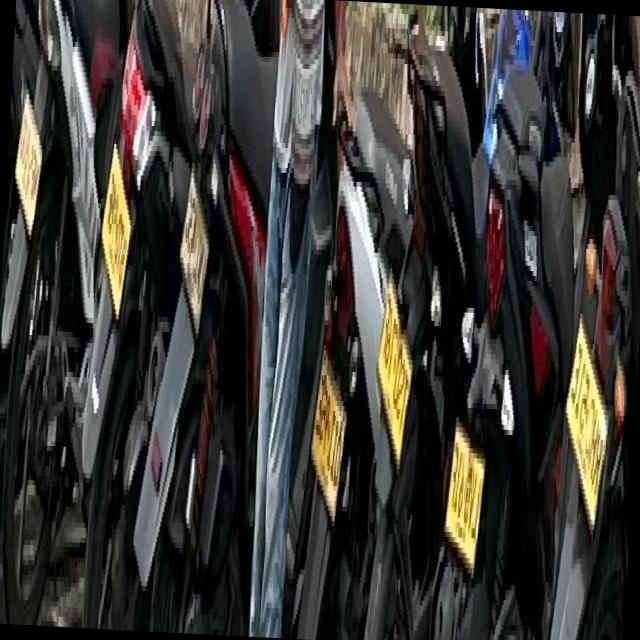number plate: (568, 314, 609, 525), (379, 269, 414, 459), (447, 417, 486, 568), (313, 345, 347, 516), (104, 139, 132, 310), (182, 163, 210, 329), (17, 89, 43, 230)
